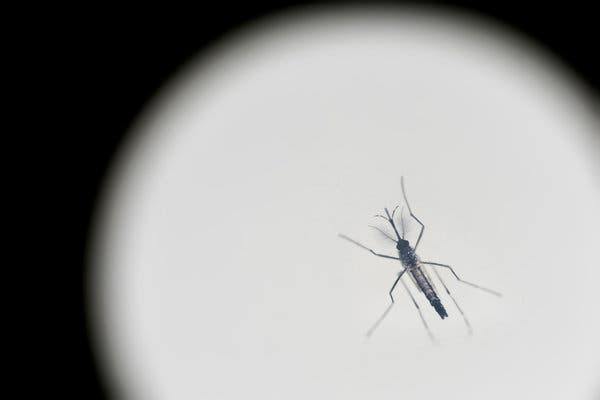mosquito: (311, 172, 512, 356)
